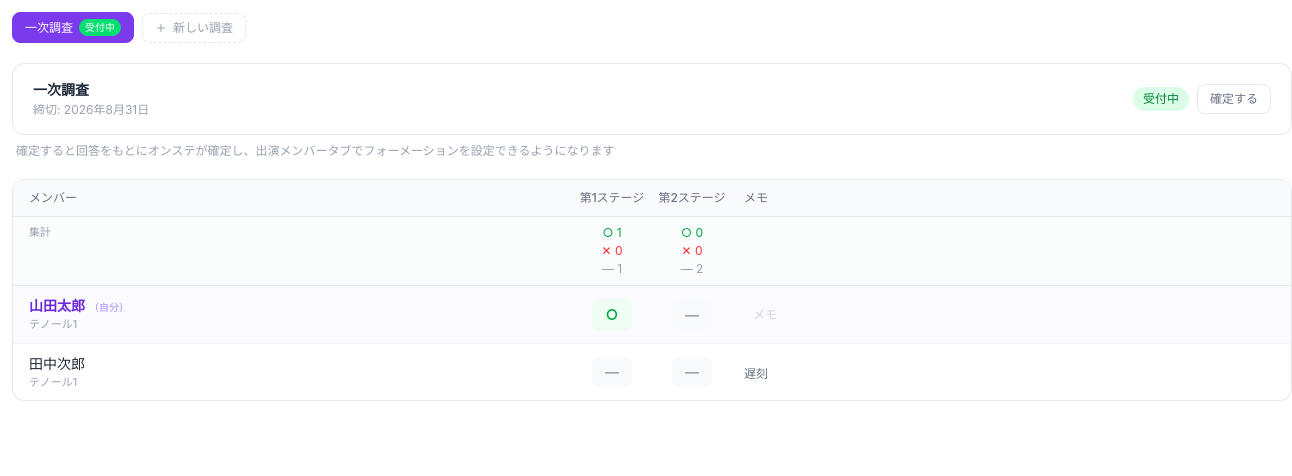
Scenario: SurveyTab（失敗の表示） › 確定・再開に失敗したらエラーを表示する
Click the button "確定する" at point(1234, 99), box x1=1197 y1=84 x2=1271 y2=114
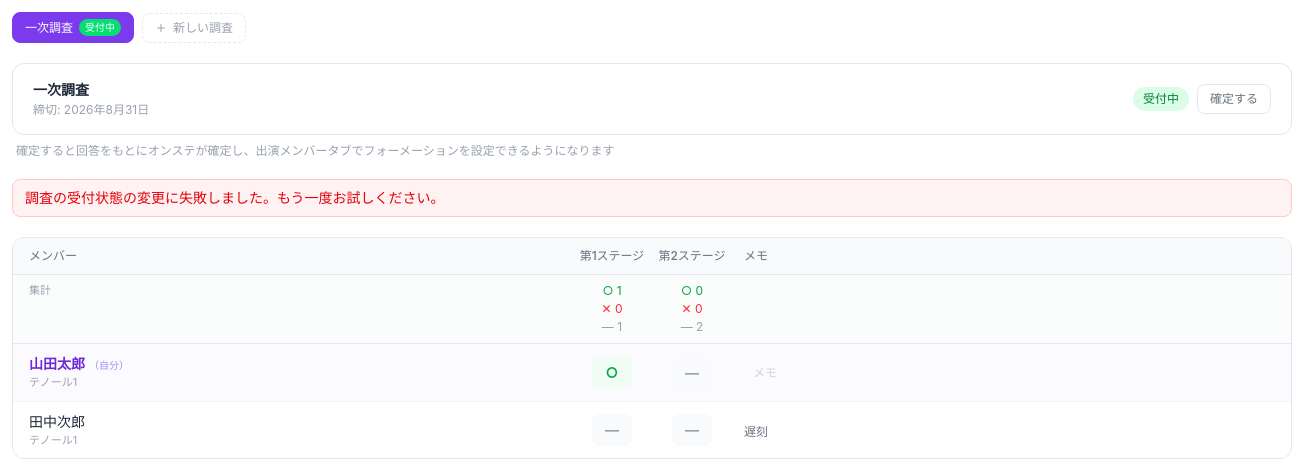
Now the message reads "調査の受付状態の変更に失敗しました。もう一度お試しください。", box x1=25 y1=189 x2=445 y2=206
